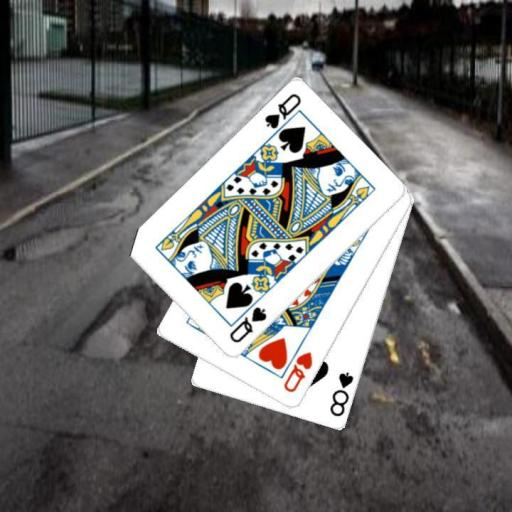card-corner: (261, 90, 303, 132), (226, 304, 268, 345), (280, 349, 314, 395), (326, 368, 356, 419)
